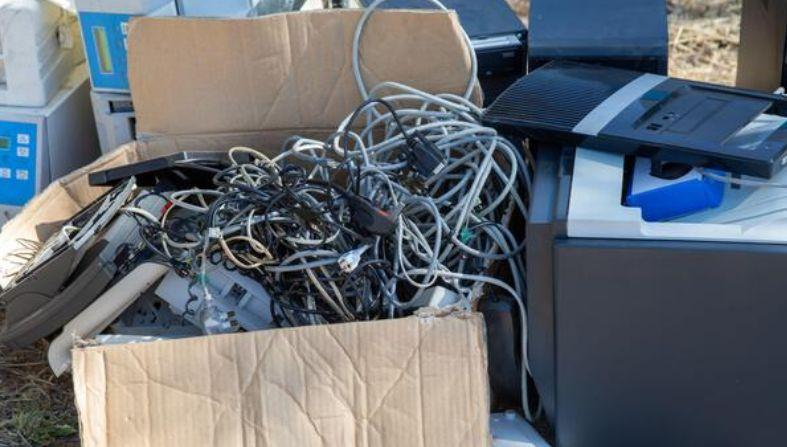electronic: (520, 130, 784, 444), (486, 61, 782, 178), (1, 68, 95, 237), (521, 139, 569, 436), (108, 260, 276, 341), (72, 1, 181, 94), (430, 0, 528, 102), (530, 0, 667, 72), (386, 206, 474, 314), (1, 0, 79, 107), (347, 157, 439, 234), (93, 151, 238, 187), (178, 0, 271, 19), (408, 135, 445, 178), (337, 245, 370, 274), (207, 226, 223, 239)
